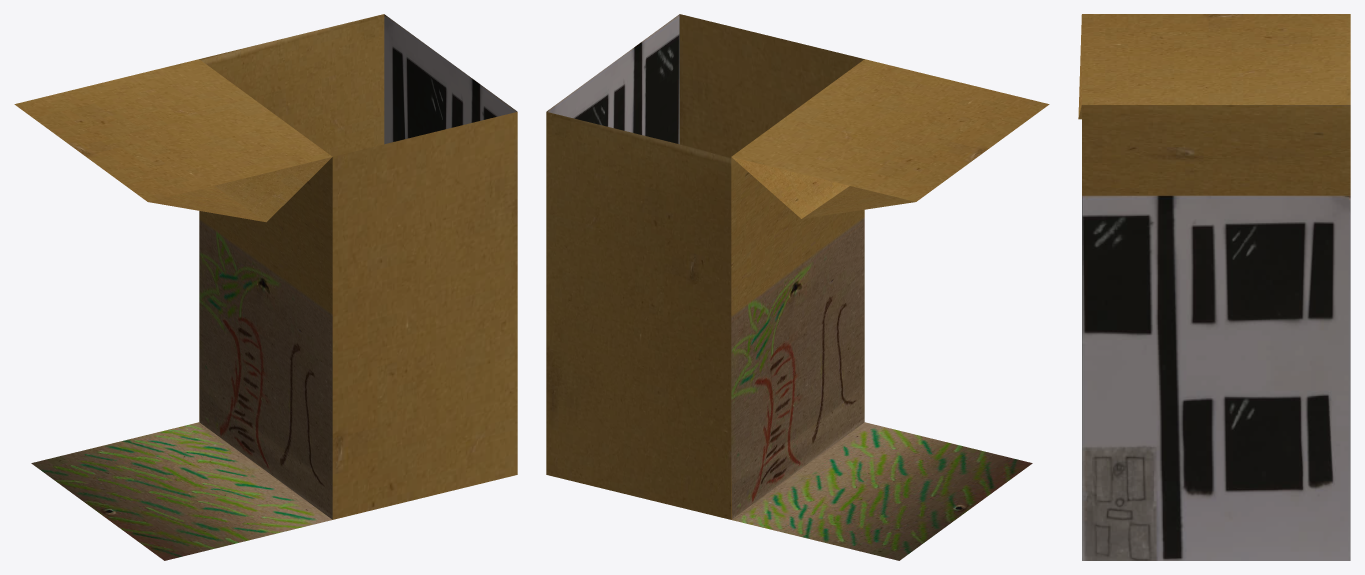
3 renders of one model, left to right at view 1: azimuth 30°, elevation 25°; view 2: azimuth 150°, elevation 25°; view 3: azimuth 270°, elevation 25°, orthographic.
Visible parts, largest first — view 1: Cube, Cube.002, Cube.003; view 2: Cube, Cube.002, Cube.003; view 3: Cube, Cube.002, Cube.003.
Part boxes in pixels (box(x1,y1,x2,y2)): Cube: box(31, 112, 517, 560); Cube.002: box(14, 59, 332, 222); Cube.003: box(199, 14, 517, 156); Cube: box(546, 112, 1032, 560); Cube.002: box(731, 59, 1049, 218); Cube.003: box(546, 14, 864, 156); Cube: box(1082, 195, 1350, 560); Cube.002: box(1078, 14, 1350, 118); Cube.003: box(1082, 105, 1350, 195).
Bounding box in the file's own units: 16 × 15 × 10.13.
Materials: 1 (1 with a texture image).
